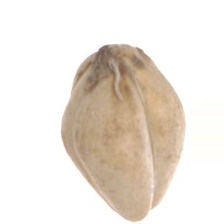L1: (81, 42, 149, 81), (106, 197, 166, 221)
L2: (61, 44, 187, 221)
